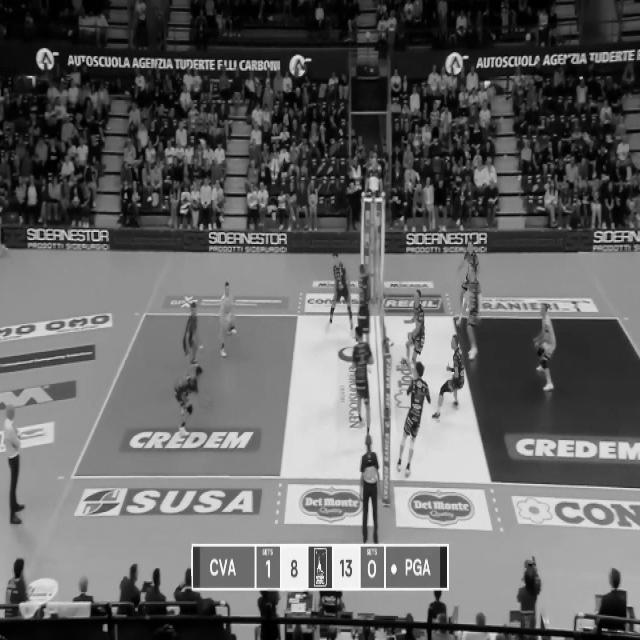volleyball court: (72, 310, 638, 492), (451, 312, 639, 488)
